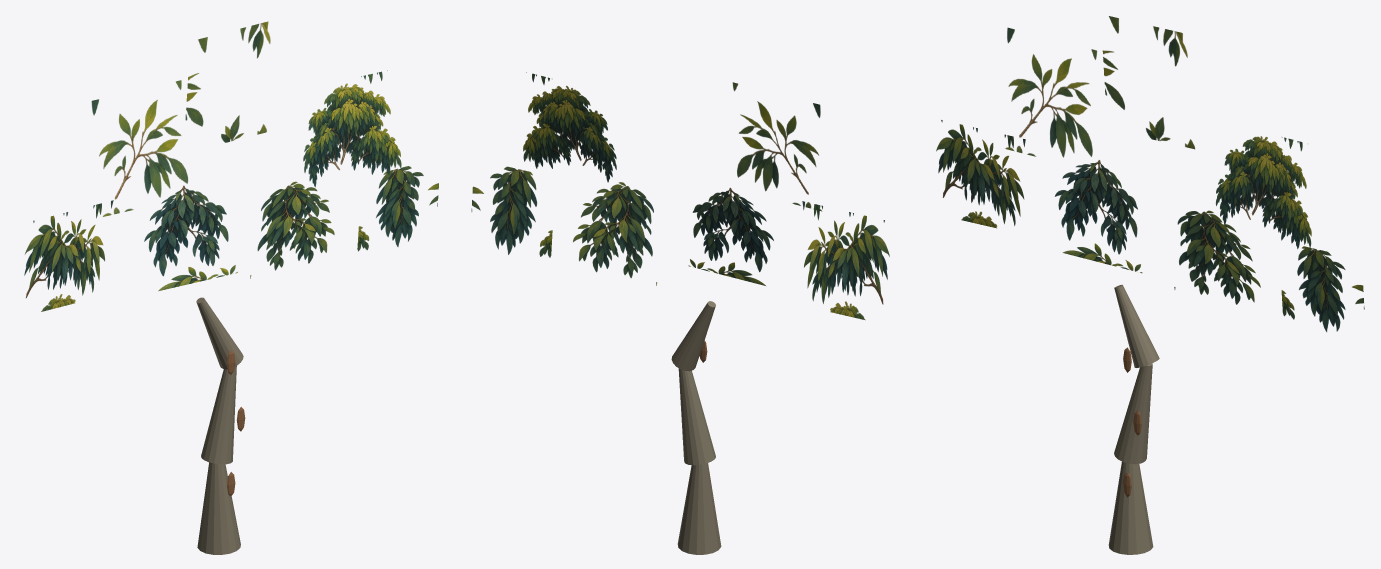
Rendered from TREE_EUCALYPTUS_001_LOD_MAP.glb.
The picture shows the model from 3 angles, left to right: view 1: azimuth 30°, elevation 25°; view 2: azimuth 150°, elevation 25°; view 3: azimuth 330°, elevation 25°; orthographic projection. The views are drawn at different scales.
Visible parts, largest first — view 1: GG_EUC_BODY_ISLAND_03_CLUSTER_00, GG_EUC_BODY_ISLAND_05_CLUSTER_00, GG_EUC_BODY_ISLAND_00_CLUSTER_00, GG_EUC_BODY_ISLAND_06_CLUSTER_00, GG_EUC_BODY_ISLAND_01_CLUSTER_00, GG_EUC_V2_BRANCH_00, GG_EUC_BODY_ISLAND_04_CLUSTER_00, GG_EUC_V2_BRANCH_01, GG_EUC_BODY_ISLAND_02_CLUSTER_00, GG_EUC_V2_BRANCH_02; view 2: GG_EUC_BODY_ISLAND_03_CLUSTER_00, GG_EUC_BODY_ISLAND_00_CLUSTER_00, GG_EUC_BODY_ISLAND_06_CLUSTER_00, GG_EUC_BODY_ISLAND_05_CLUSTER_00, GG_EUC_BODY_ISLAND_04_CLUSTER_00, GG_EUC_V2_BRANCH_00, GG_EUC_BODY_ISLAND_01_CLUSTER_00, GG_EUC_V2_BRANCH_01, GG_EUC_V2_BRANCH_02; view 3: GG_EUC_BODY_ISLAND_03_CLUSTER_00, GG_EUC_BODY_ISLAND_05_CLUSTER_00, GG_EUC_BODY_ISLAND_00_CLUSTER_00, GG_EUC_BODY_ISLAND_06_CLUSTER_00, GG_EUC_BODY_ISLAND_01_CLUSTER_00, GG_EUC_BODY_ISLAND_04_CLUSTER_00, GG_EUC_V2_BRANCH_00, GG_EUC_V2_BRANCH_01, GG_EUC_V2_BRANCH_02, GG_EUC_BODY_ISLAND_02_CLUSTER_00.
Part boxes in pixels (box(x1,y1,x2,y2)): GG_EUC_BODY_ISLAND_03_CLUSTER_00: box(303, 70, 401, 187); GG_EUC_BODY_ISLAND_05_CLUSTER_00: box(144, 185, 237, 291); GG_EUC_BODY_ISLAND_00_CLUSTER_00: box(24, 200, 113, 311); GG_EUC_BODY_ISLAND_06_CLUSTER_00: box(250, 181, 334, 278); GG_EUC_BODY_ISLAND_01_CLUSTER_00: box(91, 80, 187, 216); GG_EUC_V2_BRANCH_00: box(197, 462, 240, 554); GG_EUC_BODY_ISLAND_04_CLUSTER_00: box(357, 166, 438, 251); GG_EUC_V2_BRANCH_01: box(201, 366, 236, 464); GG_EUC_BODY_ISLAND_02_CLUSTER_00: box(185, 21, 270, 142); GG_EUC_V2_BRANCH_02: box(196, 297, 243, 369); GG_EUC_BODY_ISLAND_03_CLUSTER_00: box(523, 72, 616, 182); GG_EUC_BODY_ISLAND_00_CLUSTER_00: box(802, 201, 889, 320); GG_EUC_BODY_ISLAND_06_CLUSTER_00: box(573, 182, 657, 285); GG_EUC_BODY_ISLAND_05_CLUSTER_00: box(688, 187, 773, 285); GG_EUC_BODY_ISLAND_04_CLUSTER_00: box(471, 166, 552, 257); GG_EUC_V2_BRANCH_00: box(677, 463, 721, 554); GG_EUC_BODY_ISLAND_01_CLUSTER_00: box(732, 82, 822, 211); GG_EUC_V2_BRANCH_01: box(678, 368, 715, 465); GG_EUC_V2_BRANCH_02: box(671, 301, 715, 371); GG_EUC_BODY_ISLAND_03_CLUSTER_00: box(1216, 136, 1311, 248); GG_EUC_BODY_ISLAND_05_CLUSTER_00: box(1054, 160, 1142, 273); GG_EUC_BODY_ISLAND_00_CLUSTER_00: box(936, 120, 1025, 228); GG_EUC_BODY_ISLAND_06_CLUSTER_00: box(1174, 210, 1260, 304); GG_EUC_BODY_ISLAND_01_CLUSTER_00: box(1005, 27, 1096, 157); GG_EUC_BODY_ISLAND_04_CLUSTER_00: box(1281, 246, 1364, 331); GG_EUC_V2_BRANCH_00: box(1108, 461, 1153, 554); GG_EUC_V2_BRANCH_01: box(1114, 363, 1152, 464); GG_EUC_V2_BRANCH_02: box(1114, 284, 1159, 367); GG_EUC_BODY_ISLAND_02_CLUSTER_00: box(1102, 16, 1195, 149).
Bounding box in the file's own units: 5.99 × 6.95 × 0.5399.
3 materials, 1 textured.
